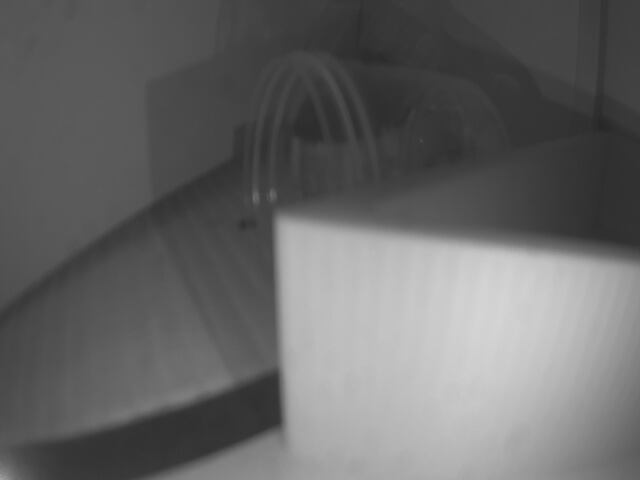Point: (275, 211, 640, 479)
